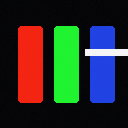3 line_h: (85, 49, 127, 55)
